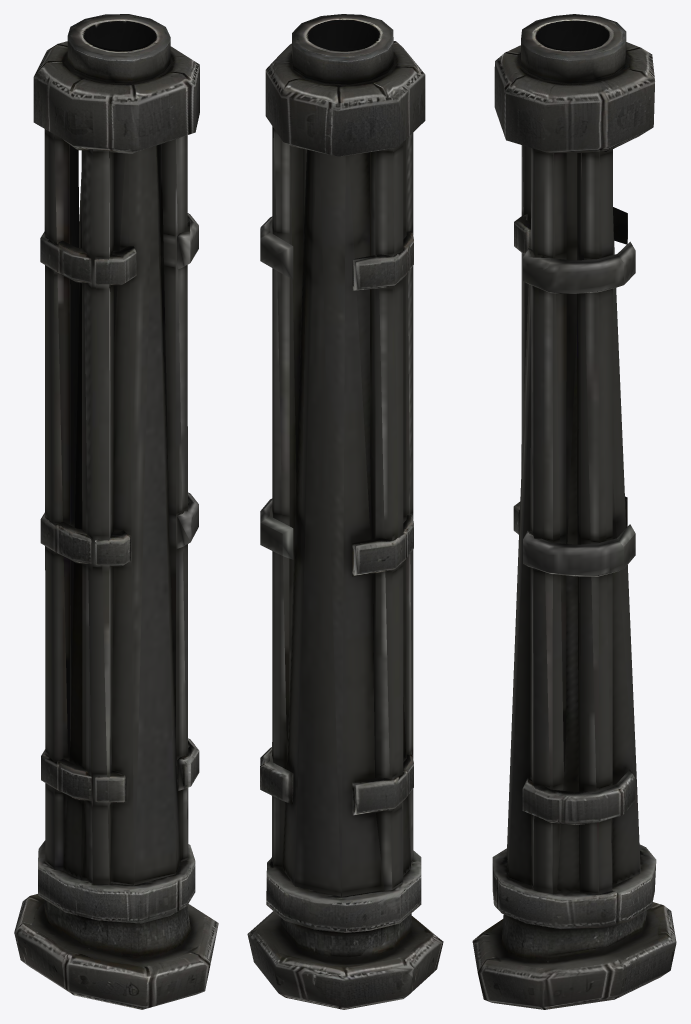
File: cold-iron-v2-weapon-b-rail-lance.glb
The picture shows the model from 3 angles, left to right: view 1: azimuth 30°, elevation 25°; view 2: azimuth 150°, elevation 25°; view 3: azimuth 270°, elevation 25°; orthographic projection.
Parts seen in each view (by area): view 1: tripo_node_fb265246-d9c4-4009-ab58-d0262dc457ff; view 2: tripo_node_fb265246-d9c4-4009-ab58-d0262dc457ff; view 3: tripo_node_fb265246-d9c4-4009-ab58-d0262dc457ff.
Part boxes in pixels (x1,y1,x2,y2): tripo_node_fb265246-d9c4-4009-ab58-d0262dc457ff: (14, 14, 218, 1009); tripo_node_fb265246-d9c4-4009-ab58-d0262dc457ff: (247, 14, 443, 1009); tripo_node_fb265246-d9c4-4009-ab58-d0262dc457ff: (472, 14, 676, 1009).
Size of the model in its own units: 0.1877 by 0.9981 by 0.1944.
1 material, 1 textured.
